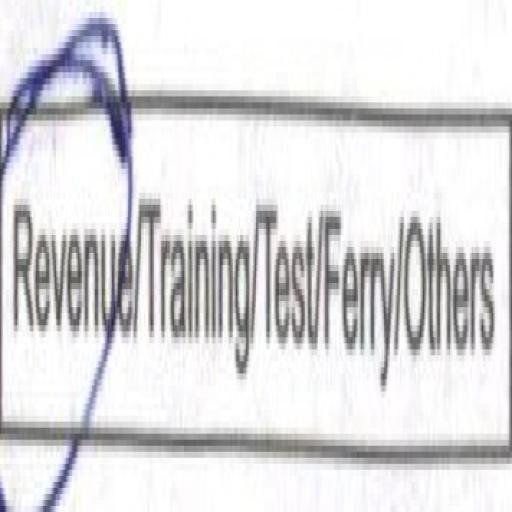check: (0, 0, 135, 488)
